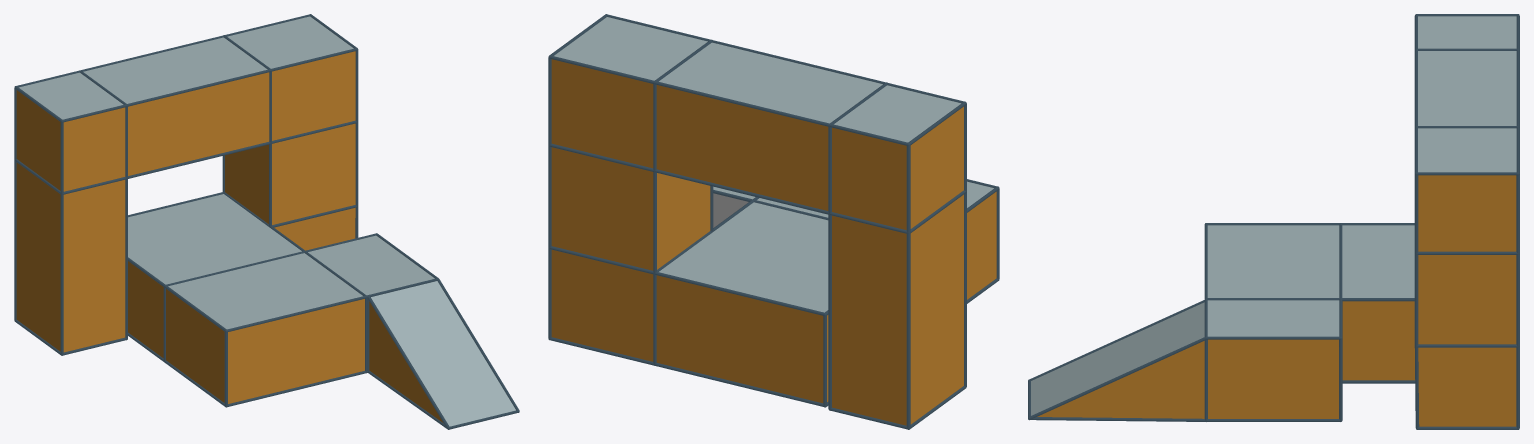
Rendered from model_bloom3d.glb.
3 renders of one model, left to right at view 1: azimuth 30°, elevation 25°; view 2: azimuth 150°, elevation 25°; view 3: azimuth 270°, elevation 25°, orthographic. The views are drawn at different scales.
Size of the model in its own units: 8.51 by 6.45 by 11.09.
